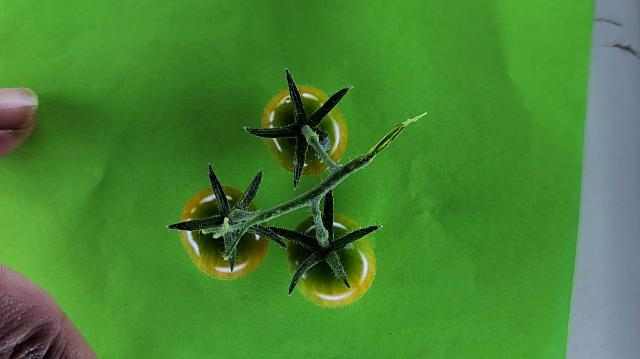Fully Grown: (179, 184, 273, 281), (286, 210, 376, 308), (260, 85, 348, 175)
